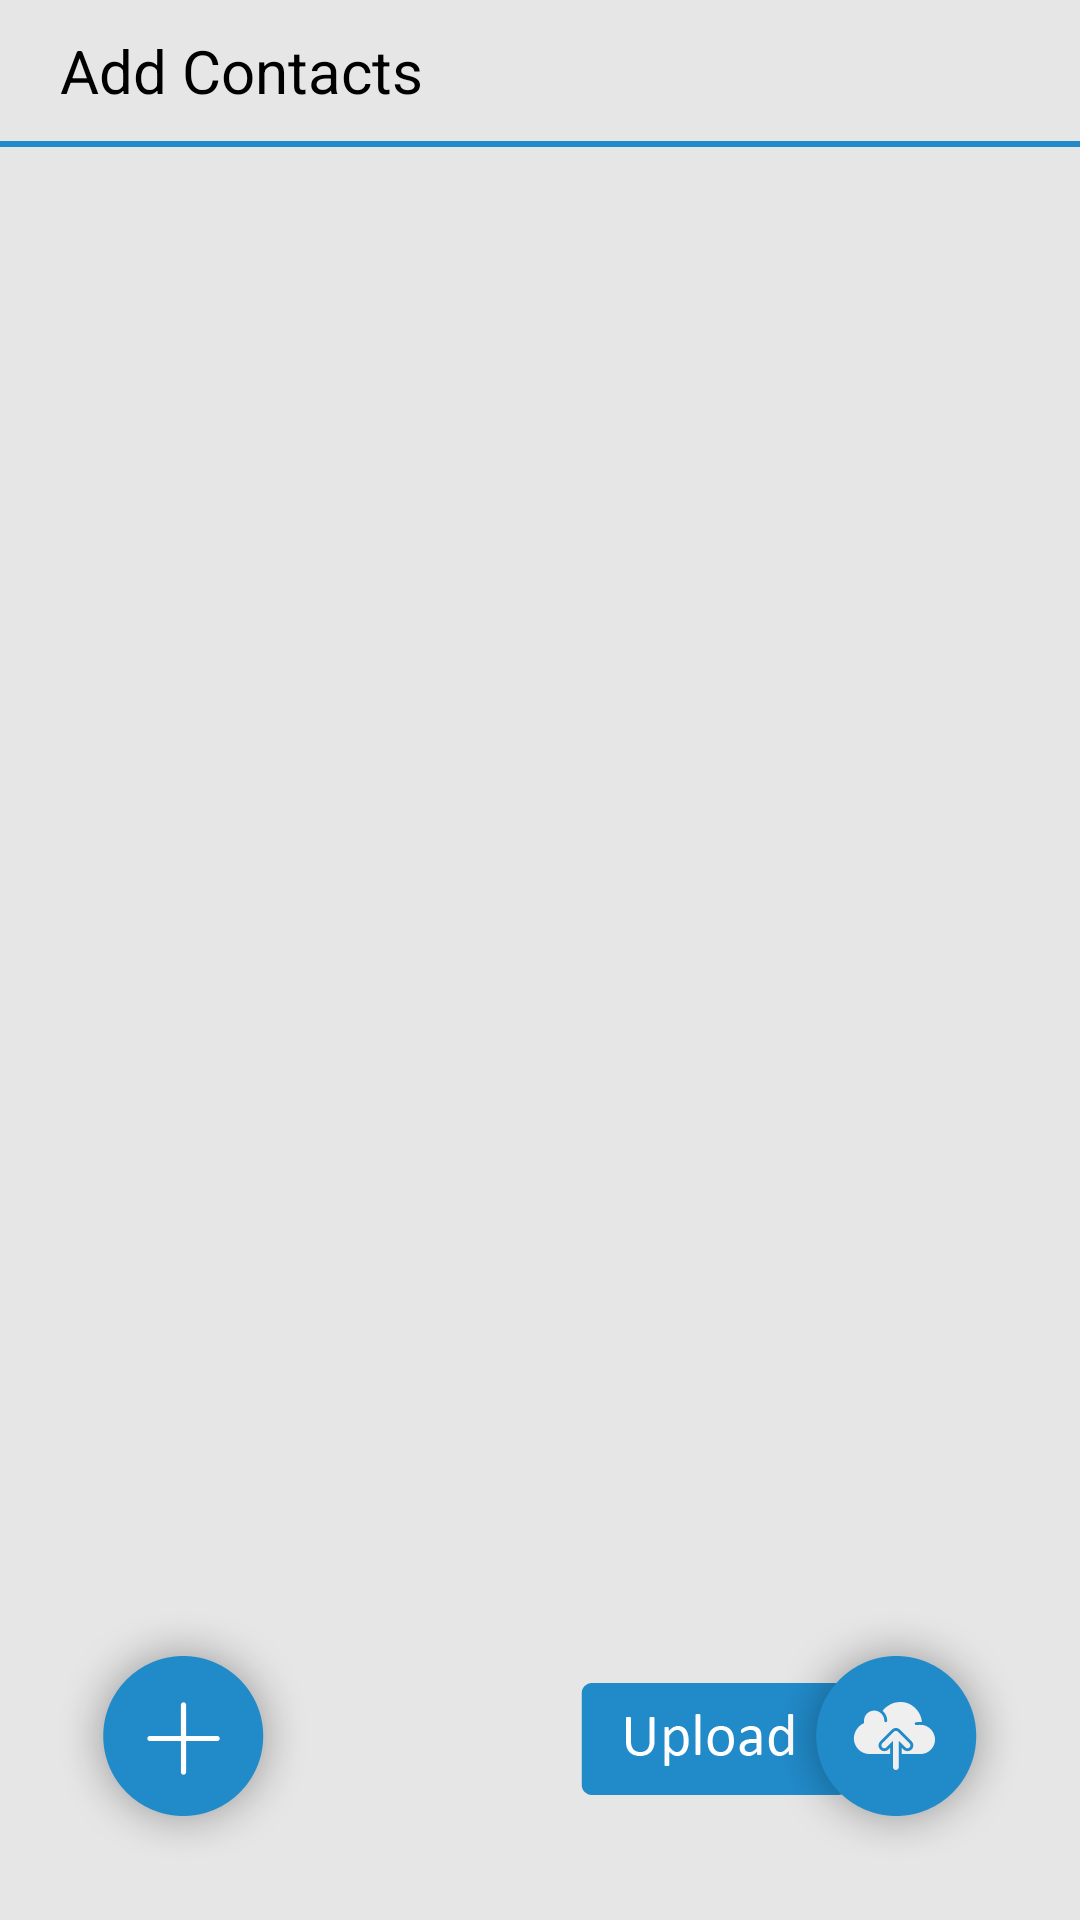

Icon click points for this 1080w x 1920h phone screenshot, format (x=x, y=y):
add: (x=183, y=1736)
